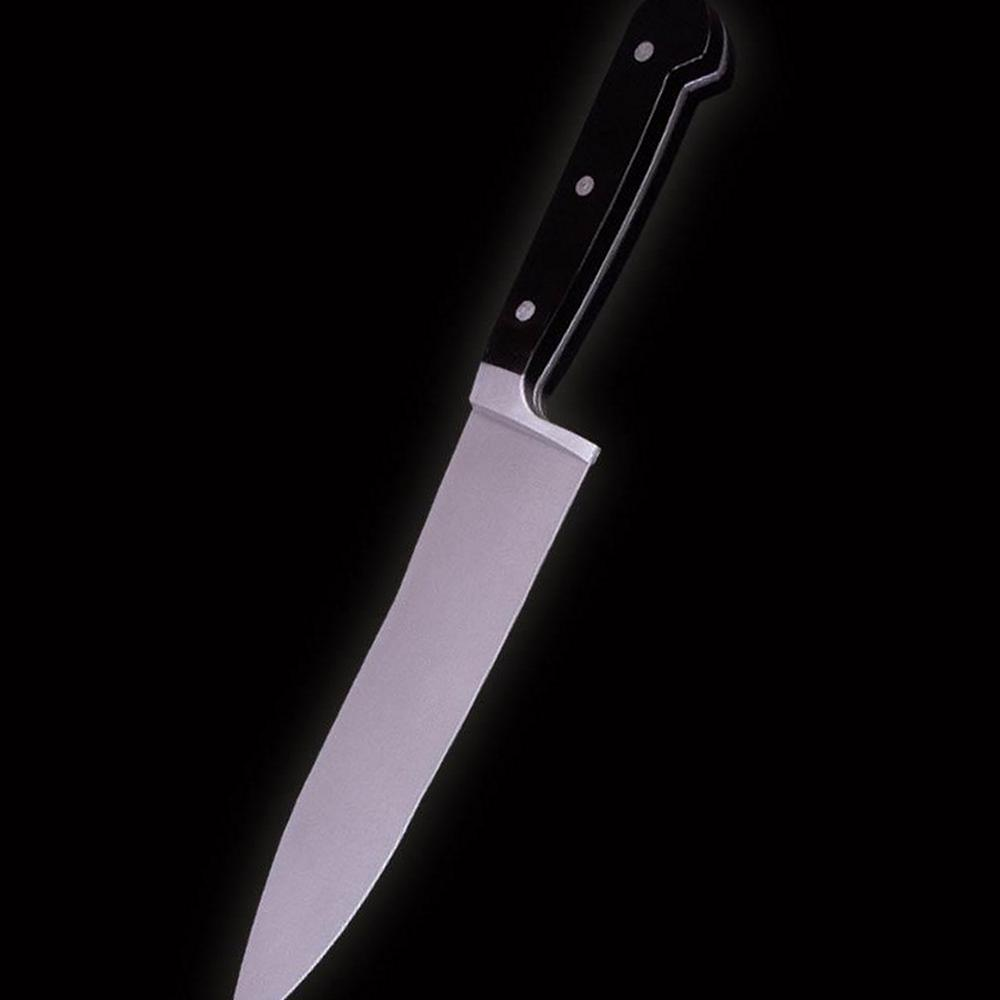knife: (236, 4, 730, 1000)
